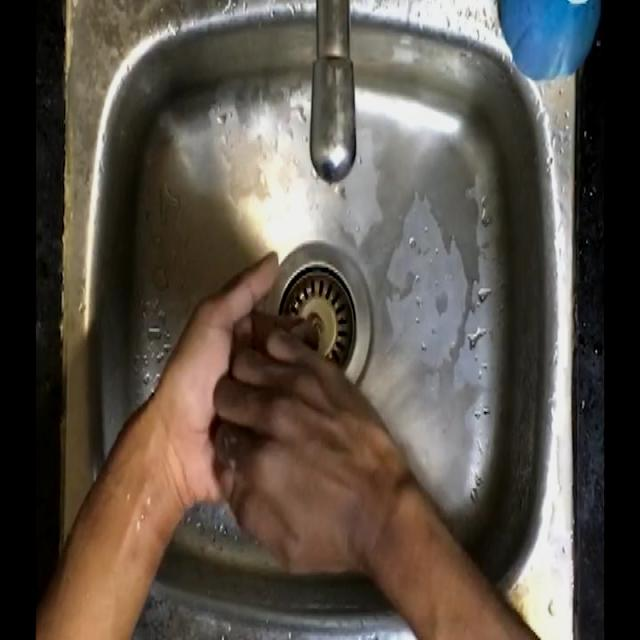step_4: (145, 253, 383, 492)
